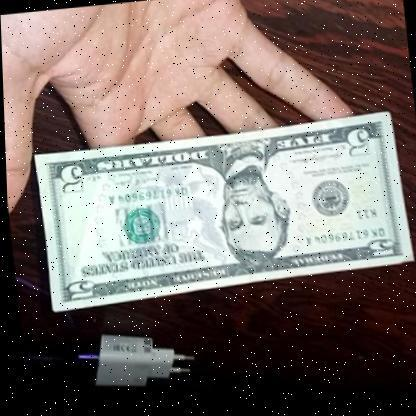five-front: (30, 115, 413, 311)
